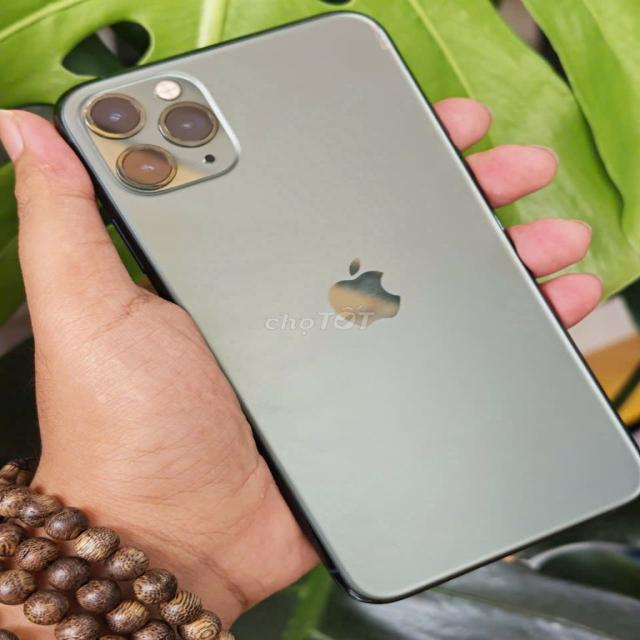gen_11: (50, 13, 640, 607)
